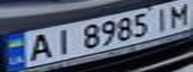5: (130, 10, 154, 38)
8: (78, 20, 103, 50), (115, 15, 136, 43)
9: (96, 17, 121, 47)
A: (21, 30, 57, 62)
I: (45, 26, 78, 56), (148, 4, 175, 33)
M: (163, 1, 193, 28)
